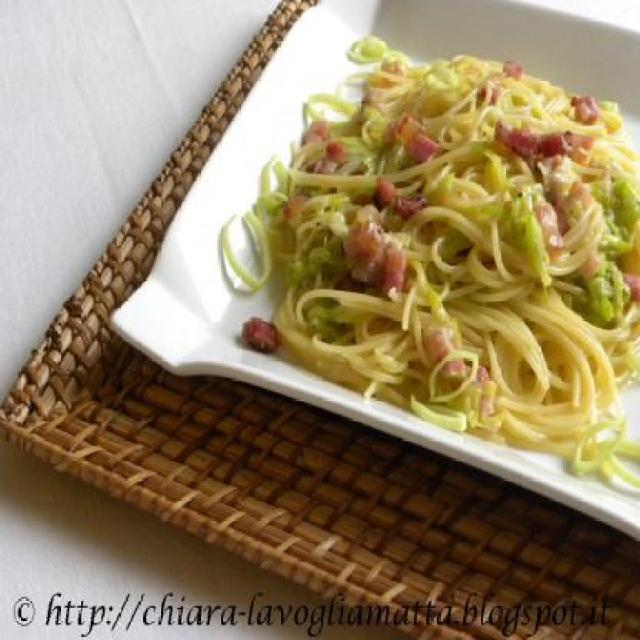Pasta with carbonara sauce: (198, 30, 636, 532)
